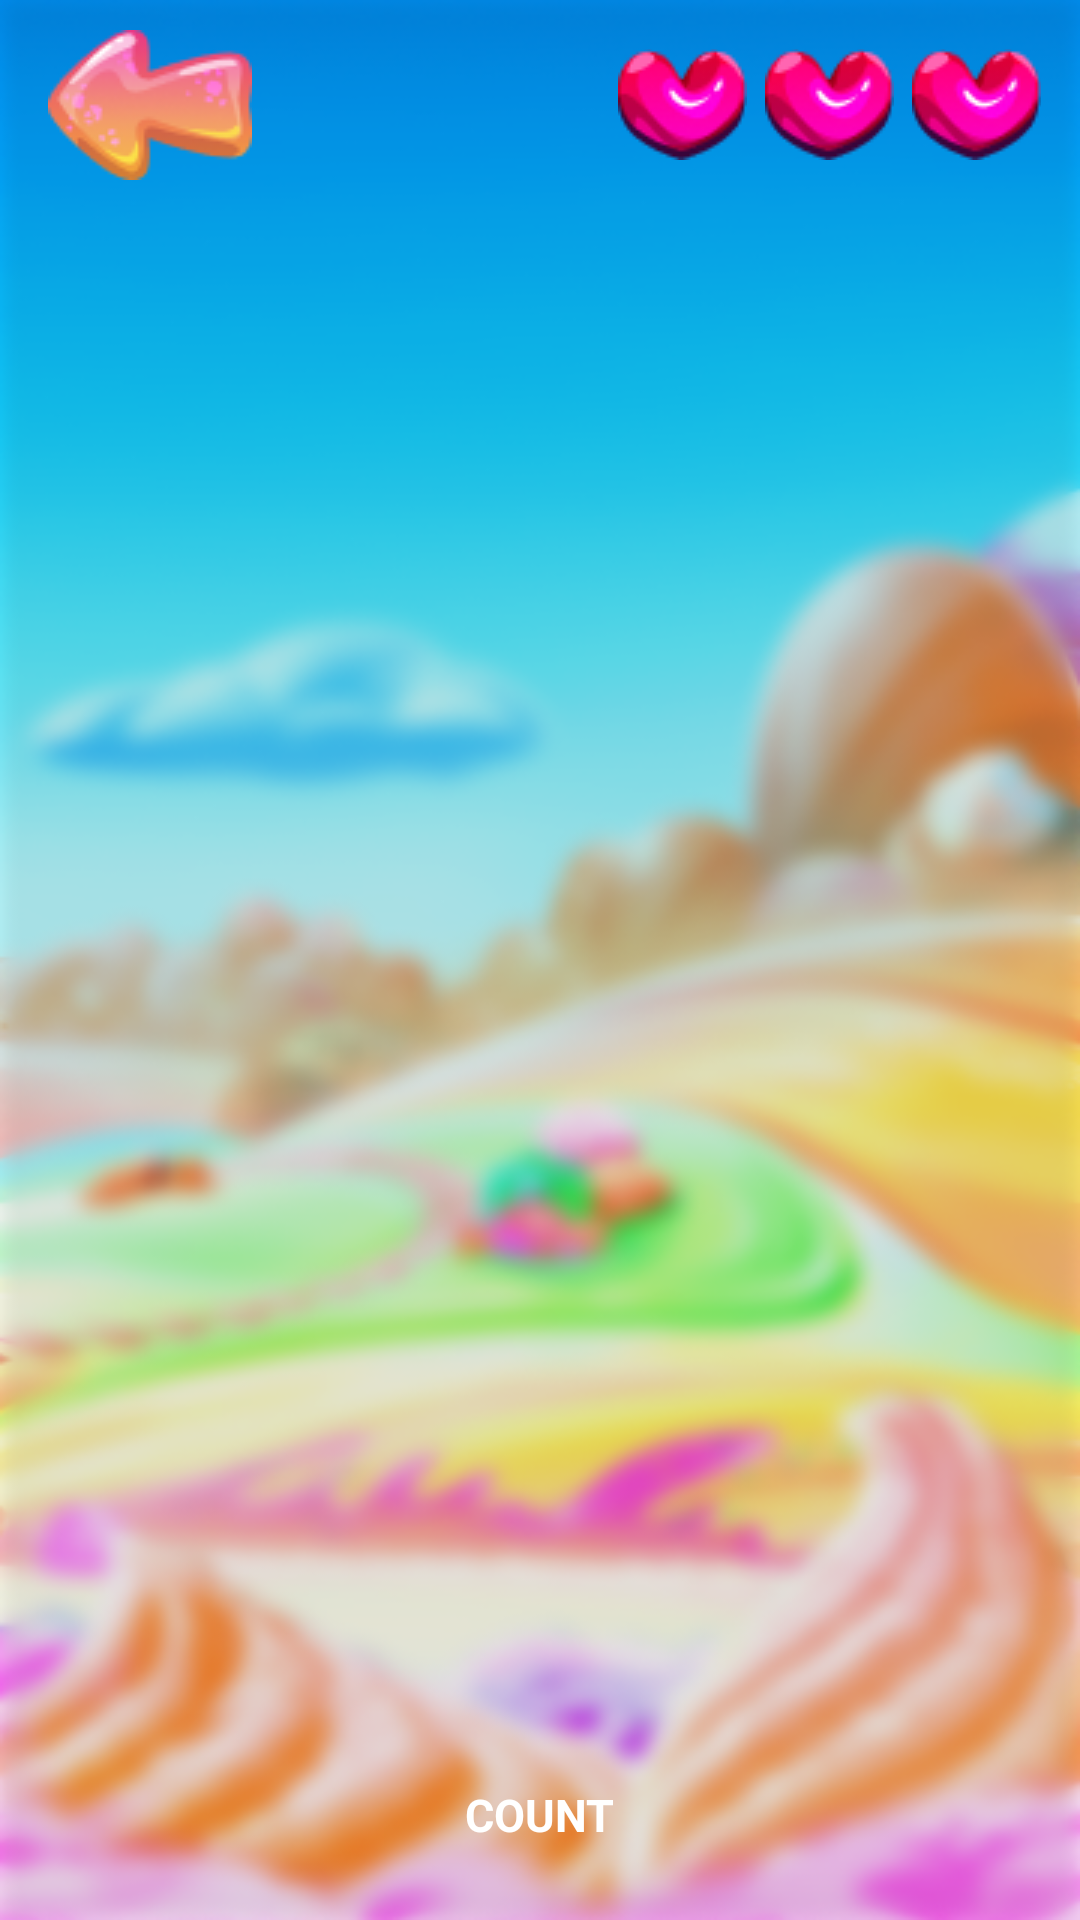

Screen size 1080px×1920px. Icon name, then its center in pixels as point (x, y):
heart: point (682, 104), point (829, 104), point (976, 104)
